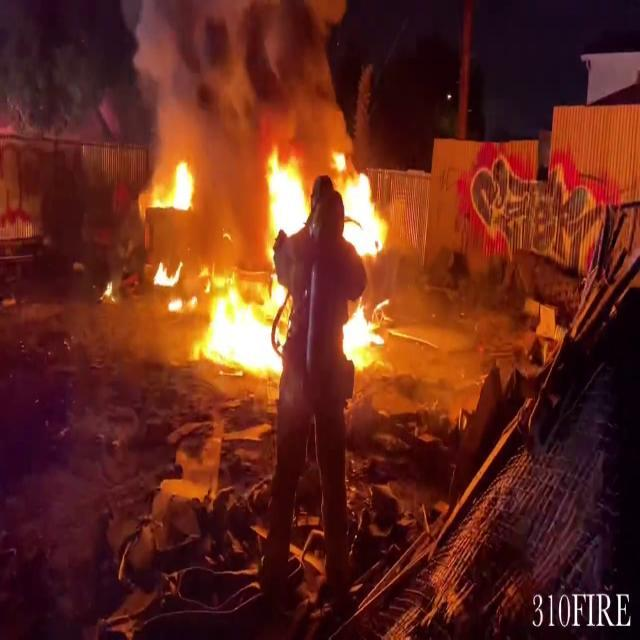Fire: (185, 262, 292, 381), (340, 172, 400, 372), (256, 149, 313, 238), (157, 153, 197, 215), (147, 248, 186, 296), (379, 354, 380, 356)
Smoke: (122, 0, 344, 168)
